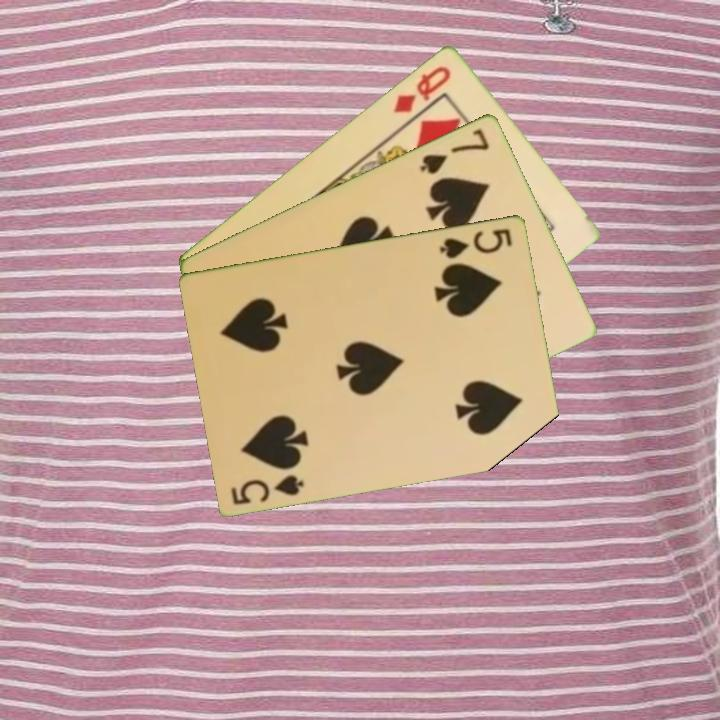5s: (436, 224, 516, 261), (228, 470, 308, 507)
7s: (417, 124, 492, 177)
Qd: (390, 61, 454, 116)
